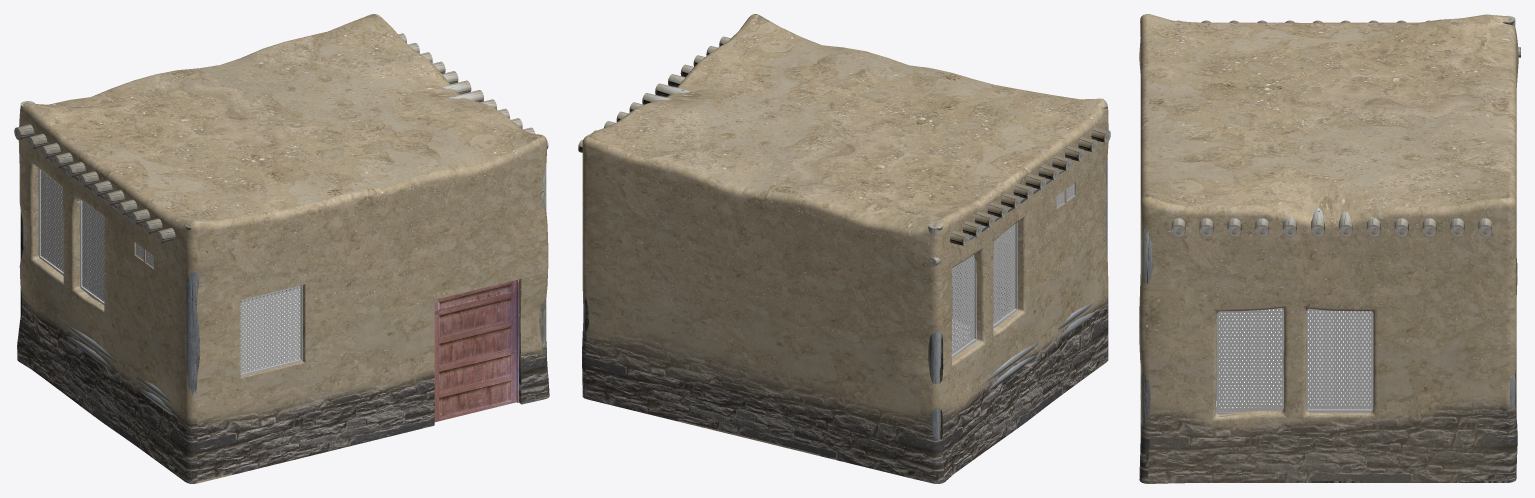
The model's file is ArabianHouse.fbx.
3 views of the same model, side by side, from view 1: azimuth 30°, elevation 25°; view 2: azimuth 150°, elevation 25°; view 3: azimuth 270°, elevation 25° (orthographic). The views are drawn at different scales.
Parts seen in each view (by area): view 1: House, Door, Window, Wooden; view 2: House, Wooden, Window; view 3: House, Window, Wooden.
Boxes of the visible parts, bbox=[...] form: House: bbox=[17, 14, 549, 483]; Door: bbox=[434, 279, 519, 422]; Window: bbox=[38, 168, 302, 375]; Wooden: bbox=[14, 33, 548, 415]; House: bbox=[582, 14, 1108, 483]; Wooden: bbox=[578, 36, 1110, 440]; Window: bbox=[951, 183, 1075, 357]; House: bbox=[1139, 14, 1518, 483]; Window: bbox=[1216, 308, 1373, 414]; Wooden: bbox=[1141, 15, 1520, 426].
Size of the model in its own units: 643 by 415 by 508.
